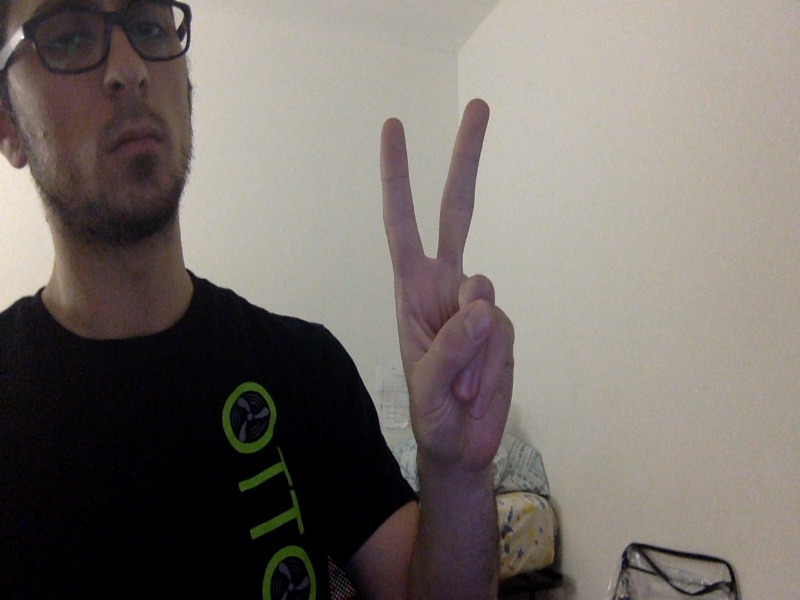2-hand: (377, 97, 516, 459)
